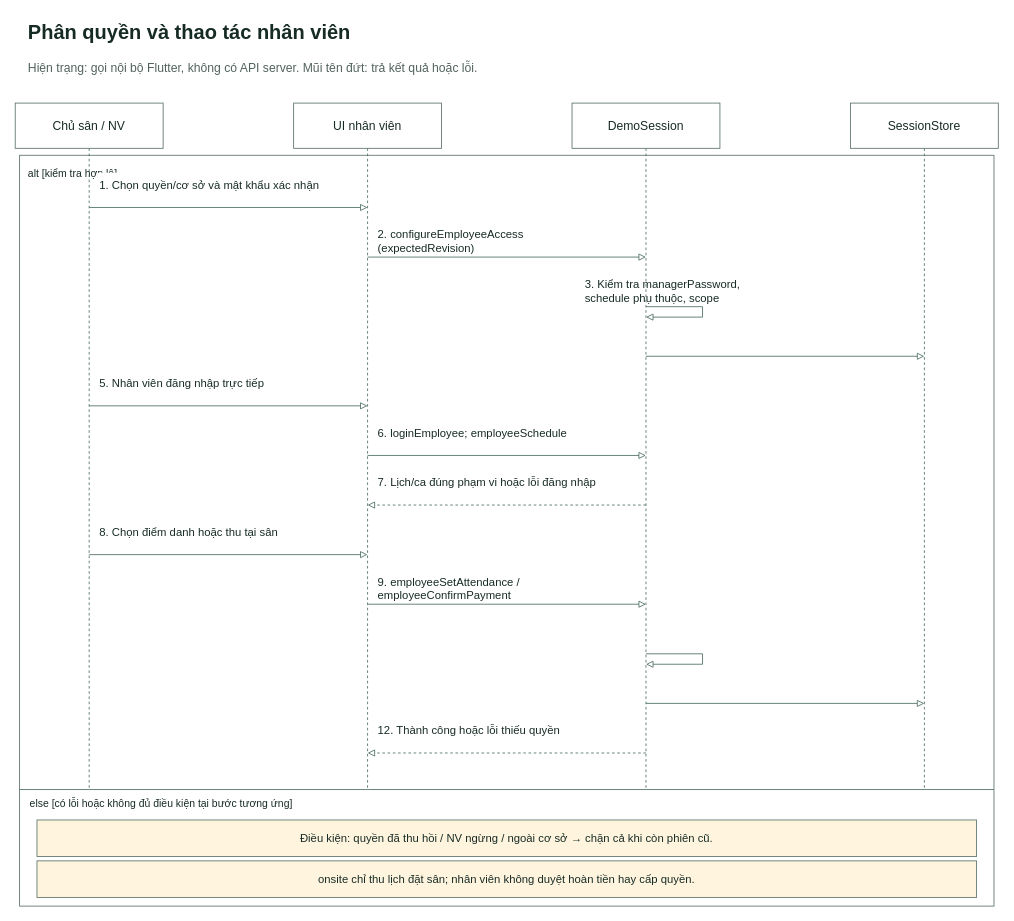
Some shapes in this 1014 by 921 pixel diagram are drawn without their labels. The shapes that lost their labels are listed below. From the top down, each one's centre as x and y in pixels, then its label:
the point at 784,337: 4. Lưu access và revision mới
the point at 673,635: 10. Kiểm tra quyền hiện hành, cơ sở, thời gian, trạng thái
the point at 784,684: 11. Lưu kết quả và nhật ký
